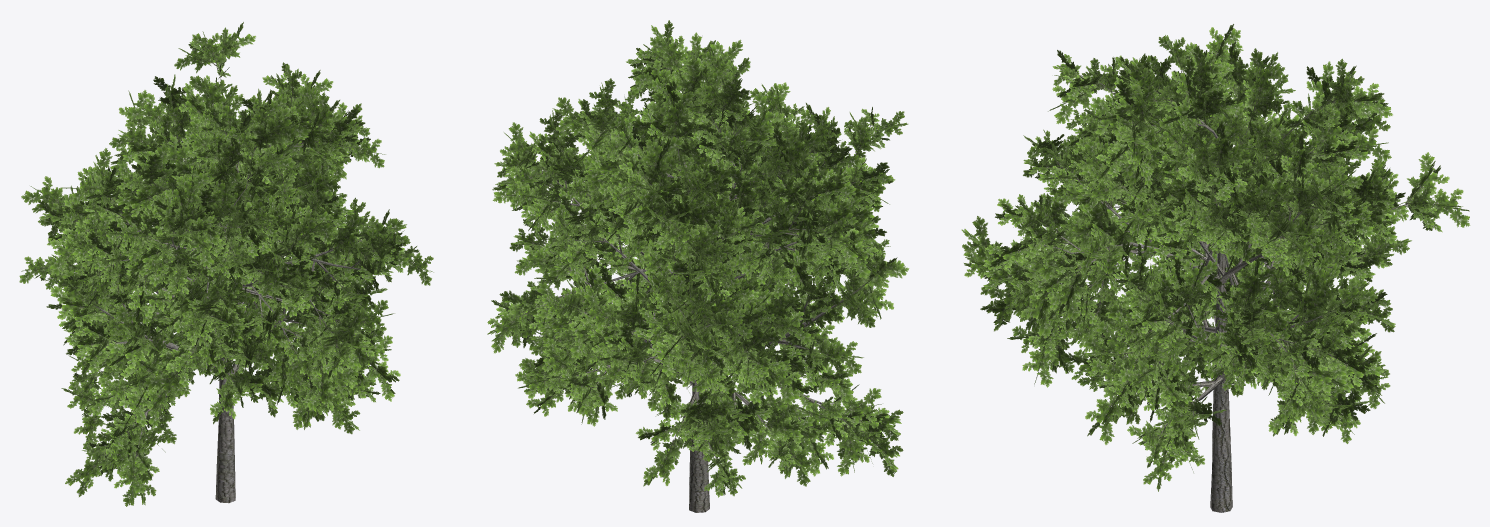
Rendered from woodland-oak.glb.
3 renders of one model, left to right at view 1: azimuth 30°, elevation 25°; view 2: azimuth 150°, elevation 25°; view 3: azimuth 270°, elevation 25°, orthographic. The views are drawn at different scales.
Visible parts, largest first — view 1: oak-0, oak-1; view 2: oak-0, oak-1; view 3: oak-0, oak-1.
Boxes of the visible parts, x1,y1,x2,y2 form: oak-0: (21,22,433,506); oak-1: (19,83,381,449); oak-0: (487,20,909,512); oak-1: (509,69,890,486); oak-0: (961,35,1470,512); oak-1: (1007,24,1399,491).
Size of the model in its own units: 0.87 by 1 by 1.02.
Materials: 2 (2 with a texture image).
